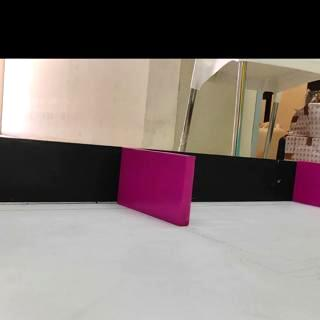xparking: (124, 156, 188, 226), (297, 162, 319, 203)
